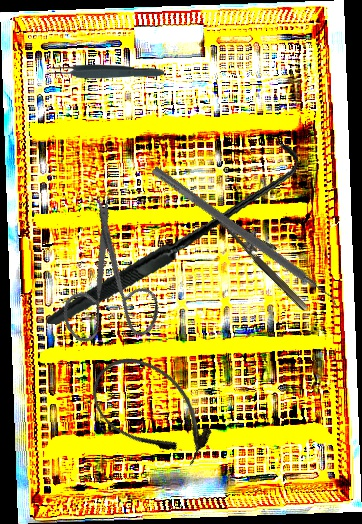Cannula: (76, 340, 228, 481)
Hook Surgical: (46, 115, 300, 355)
Iris Scissors: (13, 188, 195, 372)
Needle Holder: (210, 199, 322, 313)
Spatula Surgical: (145, 165, 346, 315)
Tissue Forceps: (45, 62, 165, 81)
